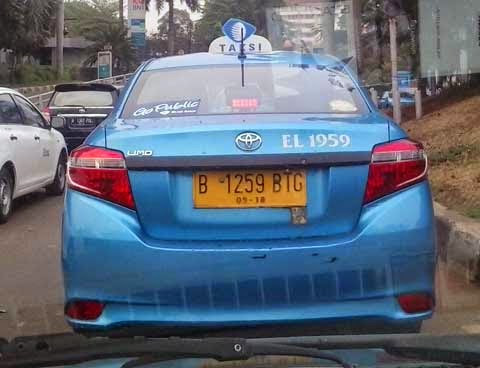plate: (195, 166, 308, 206)
